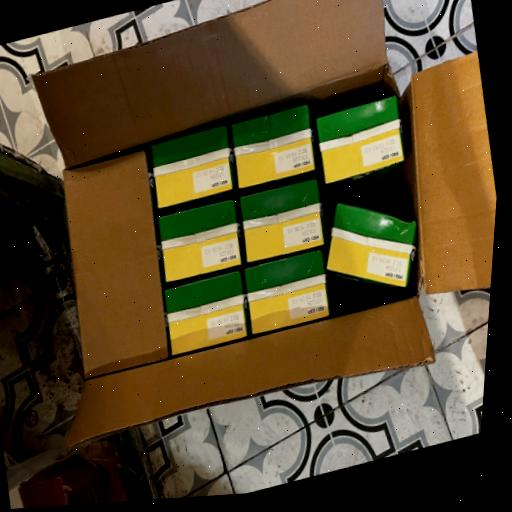sua_dac: (150, 94, 417, 358)
